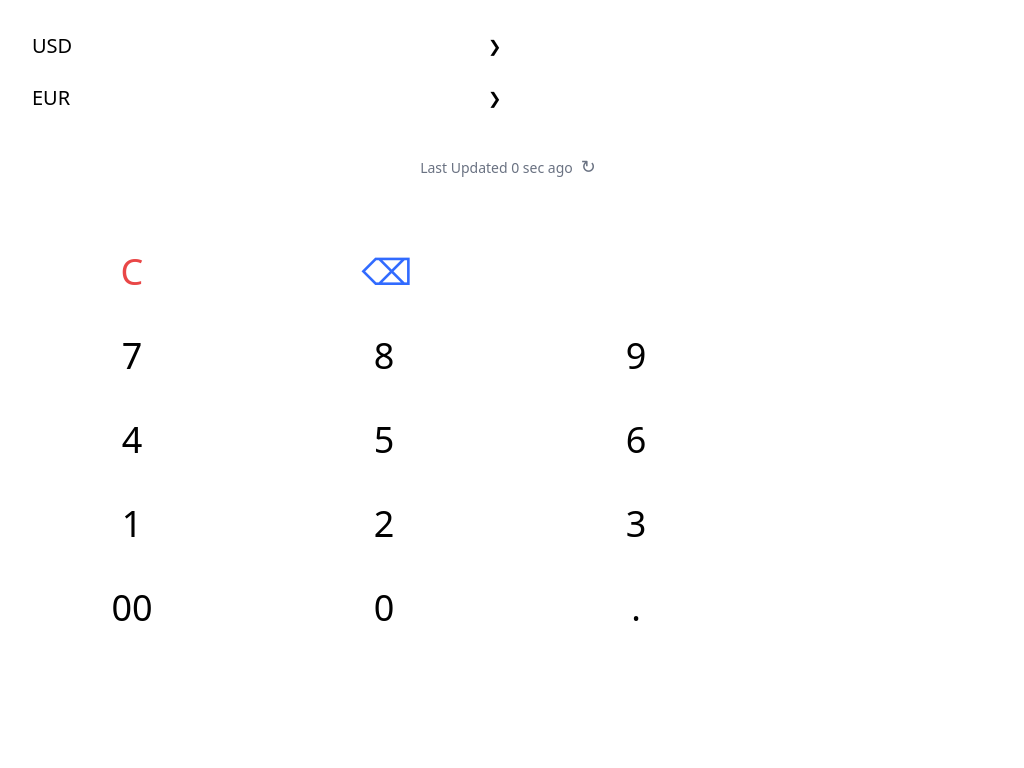
Test case: CurrencyCalculator Component › displays converted amount correctly
This screenshot has width=1024, height=768.
Expected: the dropdown with test id "source-currency" shows "USD", top-left (24, 24), bottom-right (512, 68)
Click the button with test id "1": (132,524) top-left (12, 488), bottom-right (252, 560)
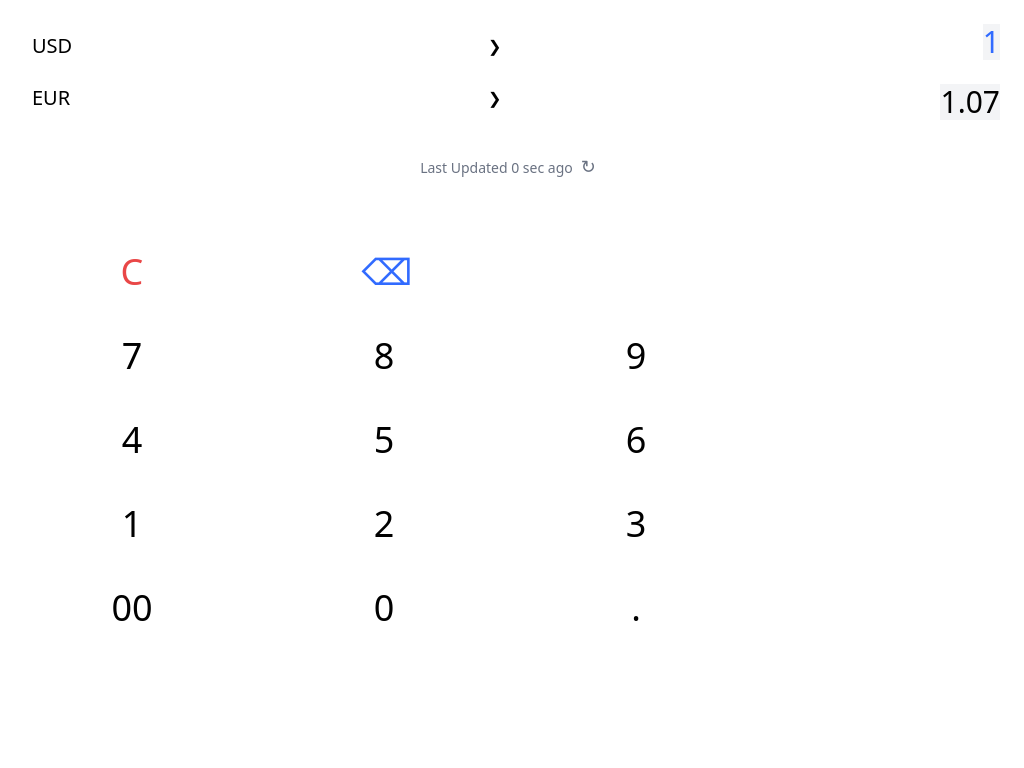
Click the button with test id "0": (384,608) top-left (264, 572), bottom-right (504, 644)
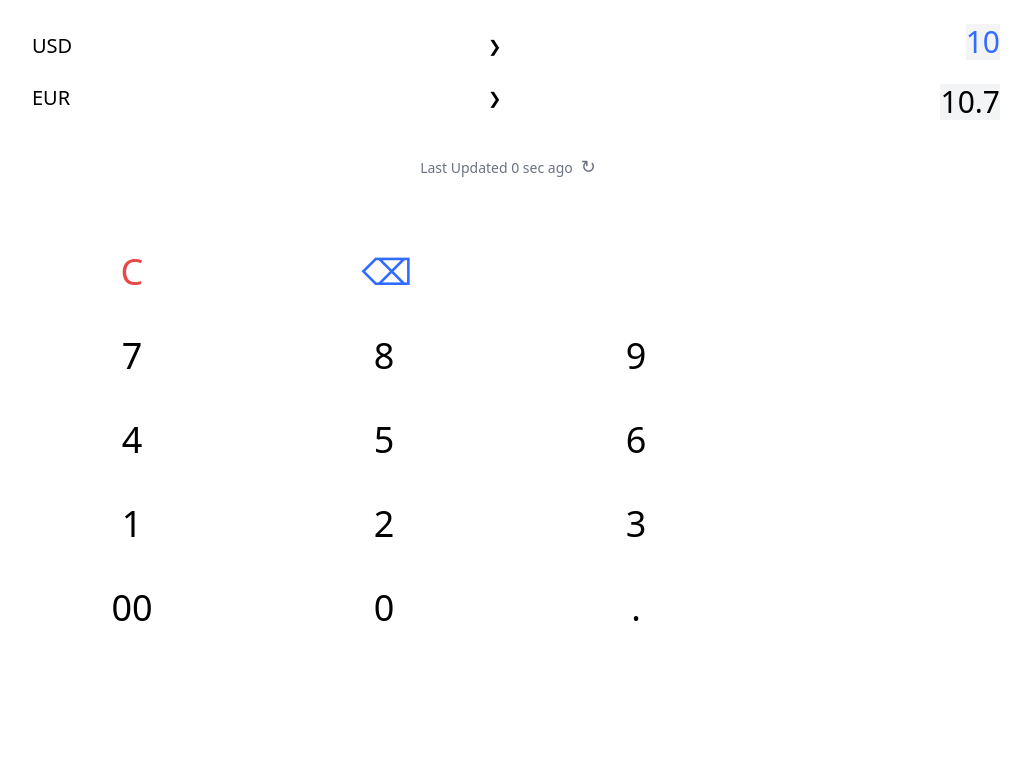
Expected: the text "10" is shown, top-left (966, 24), bottom-right (1000, 60)
Expected: the text "10.7" is shown, top-left (940, 84), bottom-right (1000, 120)
